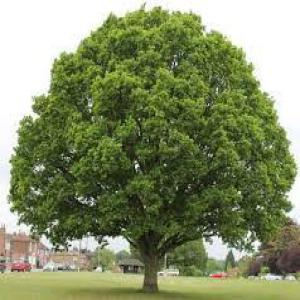Tree: (8, 3, 295, 291)
